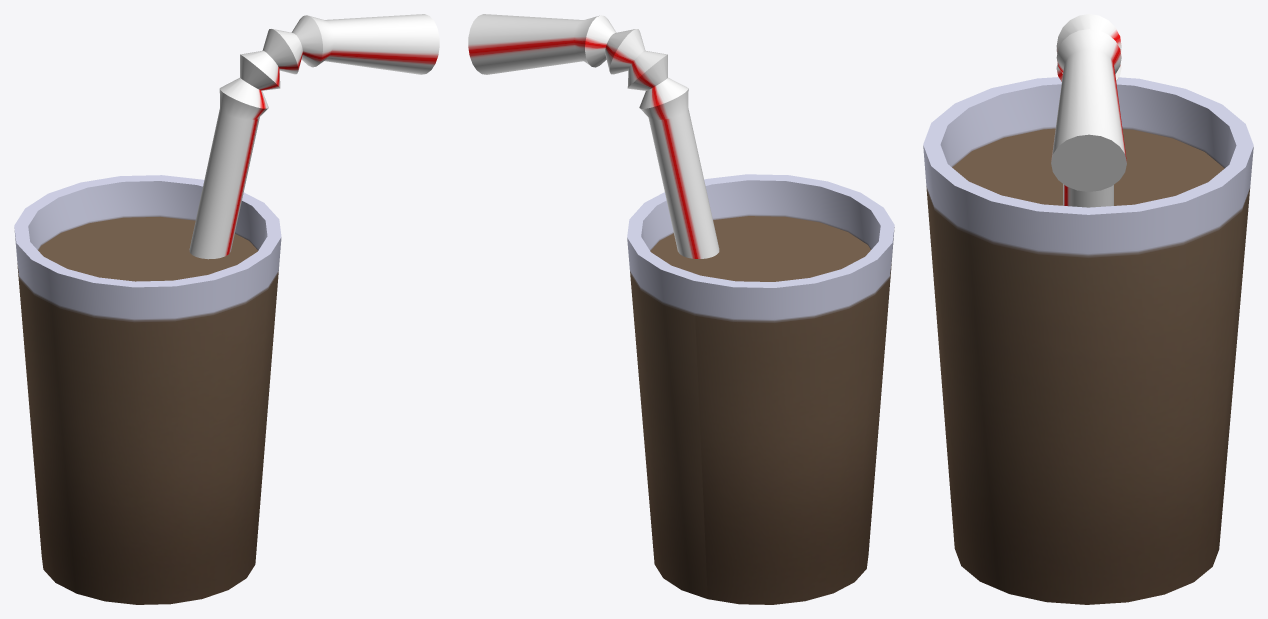
File: chocolate_milk__roblox.glb
The picture shows the model from 3 angles, left to right: view 1: azimuth 30°, elevation 25°; view 2: azimuth 150°, elevation 25°; view 3: azimuth 270°, elevation 25°; orthographic projection. The views are drawn at different scales.
Parts seen in each view (by area): view 1: Object_2; view 2: Object_2; view 3: Object_2.
Part boxes in pixels (box(x1,y1,x2,y2)): Object_2: box(14, 14, 439, 604); Object_2: box(468, 14, 894, 604); Object_2: box(923, 14, 1253, 604).
Bounding box in the file's own units: 0.916 × 1.1 × 0.5349.
1 material, 1 textured.
